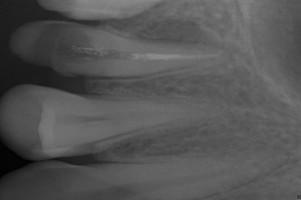Furcation Involvement: (135, 18, 244, 55)
